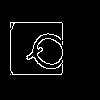Q: (25, 25, 80, 81)
